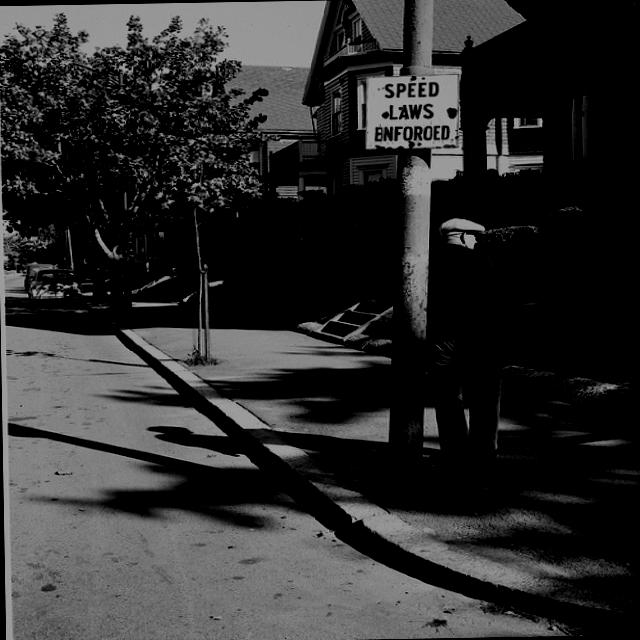Vehicle: (27, 268, 82, 307), (22, 263, 58, 291)
